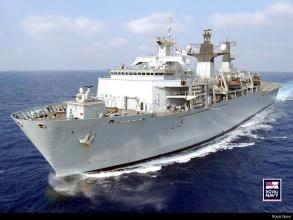warship: (16, 15, 281, 172)
